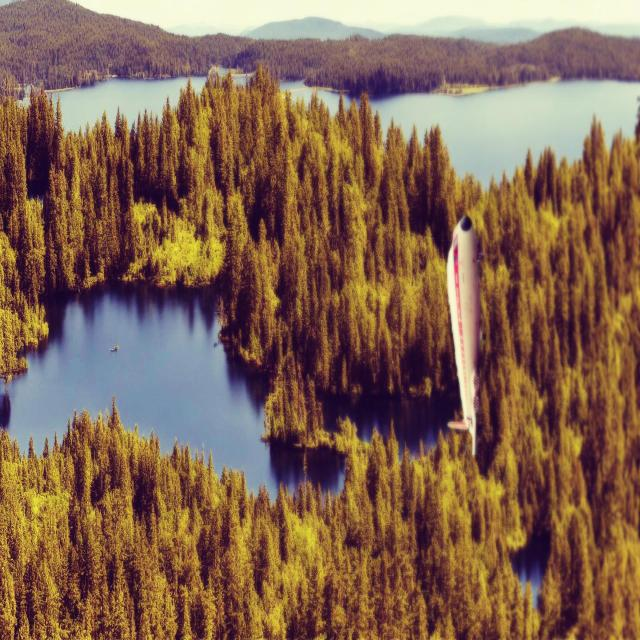airplane: (446, 214, 482, 456)
